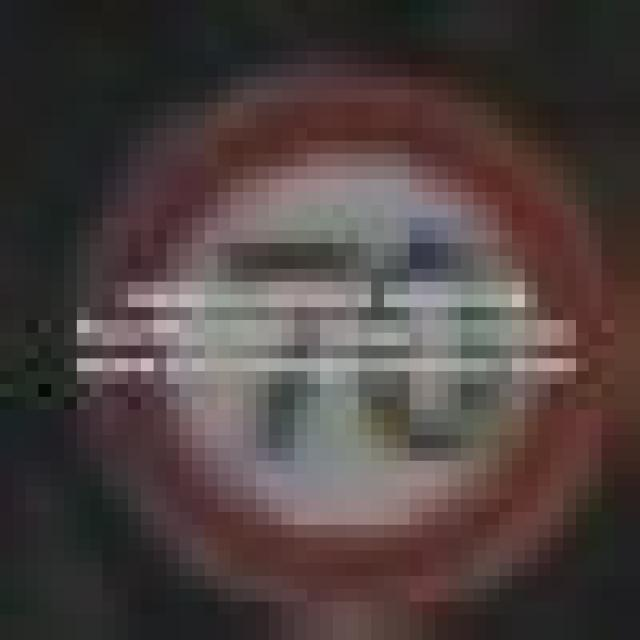SPEED_LIMIT_70: (64, 77, 602, 563)
